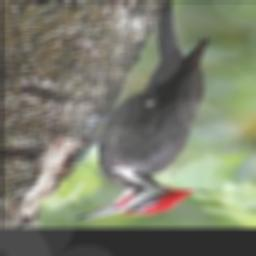Woodpecker: (73, 2, 208, 221)
